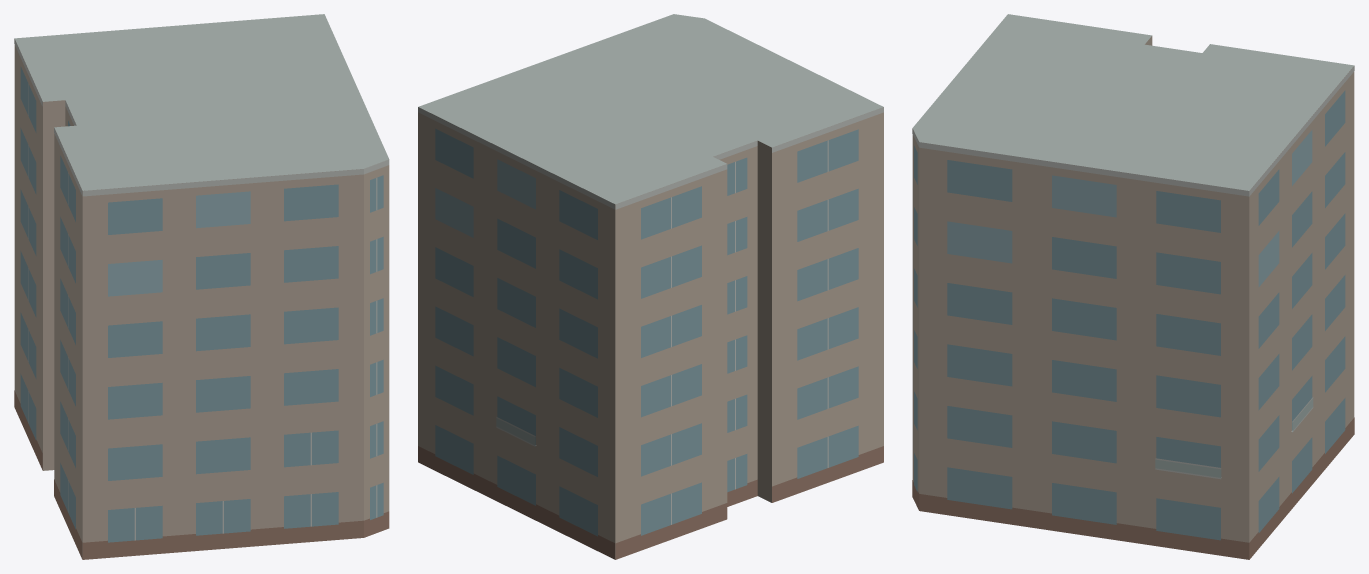
The model's file is survey-upis-32983956.glb.
3 views of the same model, side by side, from view 1: azimuth 30°, elevation 25°; view 2: azimuth 150°, elevation 25°; view 3: azimuth 270°, elevation 25° (orthographic). The views are drawn at different scales.
Visible parts, largest first — view 1: survey-upis-32983956.tmp; view 2: survey-upis-32983956.tmp; view 3: survey-upis-32983956.tmp.
Part boxes in pixels (x1=…): survey-upis-32983956.tmp: x1=14, y1=14, x2=389, y2=559; survey-upis-32983956.tmp: x1=418, y1=14, x2=883, y2=559; survey-upis-32983956.tmp: x1=912, y1=14, x2=1354, y2=559.
Size of the model in its own units: 16.47 by 16 by 17.38.
